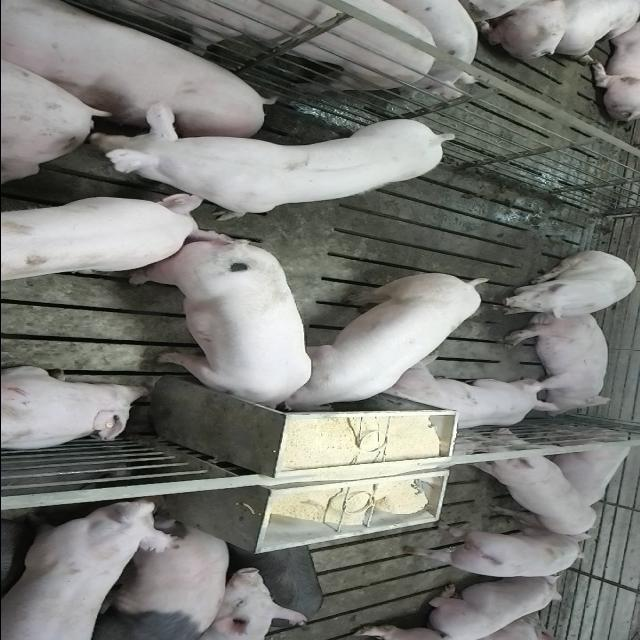Feeding: (126, 240, 312, 419), (282, 268, 495, 410)
Lateral_lying: (502, 312, 614, 415)
Sitting: (492, 251, 636, 322)
Standing: (0, 0, 442, 94), (91, 112, 454, 220), (2, 494, 185, 638), (0, 197, 201, 289), (89, 520, 237, 638), (468, 436, 596, 536), (403, 524, 598, 580)
Sternal_lying: (376, 359, 560, 433), (0, 366, 150, 454), (421, 574, 570, 640), (544, 428, 636, 511)
